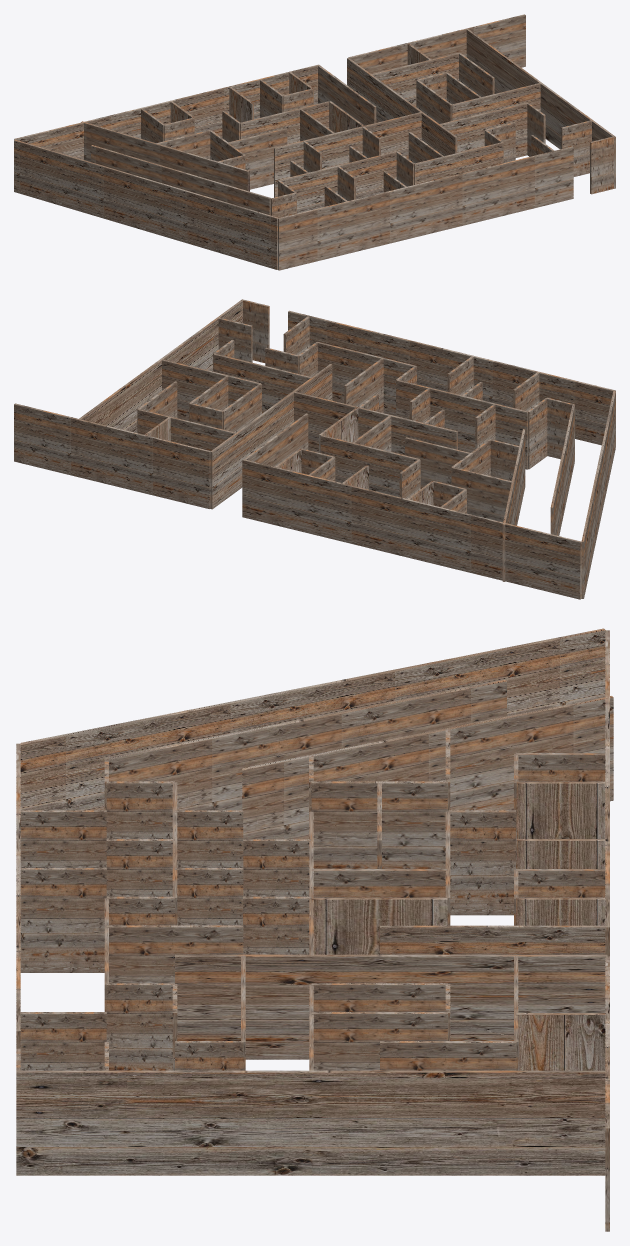
File: V3_Ale_laberinto_muros.glb
3 views of the same model, one above another, from view 1: azimuth 30°, elevation 25°; view 2: azimuth 150°, elevation 25°; view 3: azimuth 270°, elevation 25° (orthographic). The views are drawn at different scales.
Visible parts, largest first — view 1: Cube.020, Cube.018, Cube.050, Cube.052, Cube.036, Cube.084, Cube.091, Cube.082, Cube.043, Cube.039, Cube.015, Cube.026 (+29 smaller); view 2: Cube.050, Cube.052, Cube.020, Cube.036, Cube.039, Cube.043, Cube.084, Cube.093, Cube.026, Cube.018, Cube.081, Cube.015 (+29 smaller); view 3: Cube.036, Cube.039, Cube.018, Cube.091, Cube.082, Cube.011, Cube.047, Cube.095, Cube.083, Cube.027, Cube.087, Cube.059 (+23 smaller).
Boxes of the visible parts, bbox=[...] form: Cube.020: bbox=[278, 146, 573, 270]; Cube.018: bbox=[14, 139, 278, 269]; Cube.050: bbox=[14, 64, 319, 159]; Cube.052: bbox=[348, 14, 525, 73]; Cube.036: bbox=[466, 29, 615, 188]; Cube.084: bbox=[274, 112, 422, 197]; Cube.091: bbox=[81, 121, 249, 191]; Cube.082: bbox=[91, 145, 271, 215]; Cube.043: bbox=[278, 151, 396, 213]; Cube.039: bbox=[347, 58, 457, 156]; Cube.015: bbox=[439, 103, 527, 157]; Cube.026: bbox=[414, 142, 503, 184]; Cube.050: bbox=[242, 459, 581, 599]; Cube.052: bbox=[14, 403, 210, 508]; Cube.020: bbox=[288, 310, 615, 447]; Cube.036: bbox=[78, 299, 243, 432]; Cube.039: bbox=[210, 364, 332, 509]; Cube.043: bbox=[396, 380, 527, 469]; Cube.084: bbox=[293, 391, 457, 455]; Cube.093: bbox=[320, 435, 419, 496]; Cube.026: bbox=[317, 342, 415, 415]; Cube.018: bbox=[581, 391, 615, 598]; Cube.081: bbox=[162, 359, 261, 420]; Cube.015: bbox=[213, 354, 312, 413]; Cube.036: bbox=[16, 1070, 607, 1175]; Cube.039: bbox=[175, 954, 607, 1059]; Cube.018: bbox=[20, 628, 605, 810]; Cube.091: bbox=[242, 696, 613, 839]; Cube.082: bbox=[109, 679, 506, 810]; Cube.011: bbox=[311, 781, 447, 868]; Cube.047: bbox=[20, 868, 106, 972]; Cube.095: bbox=[448, 810, 515, 915]; Cube.083: bbox=[380, 925, 607, 954]; Cube.027: bbox=[106, 925, 243, 983]; Cube.087: bbox=[311, 1012, 447, 1070]; Cube.059: bbox=[311, 897, 447, 954].
Bounding box in the file's own units: 26 × 2.5 × 13.13.
4 materials, 4 textured.
